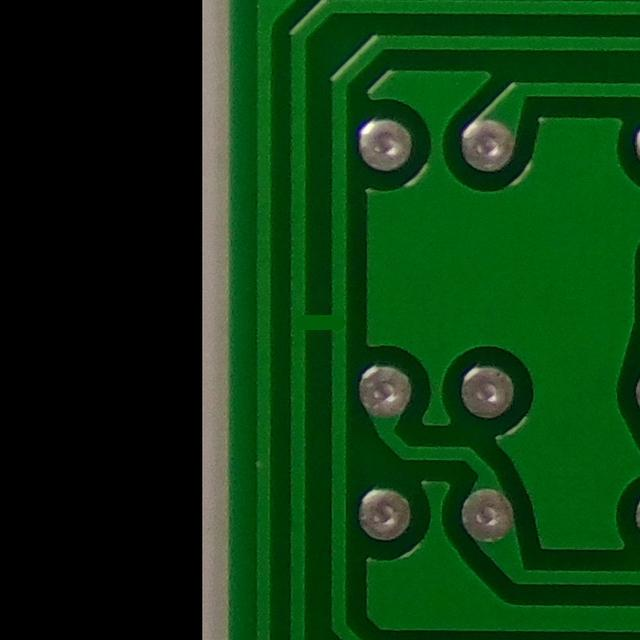short: (279, 289, 360, 351)
